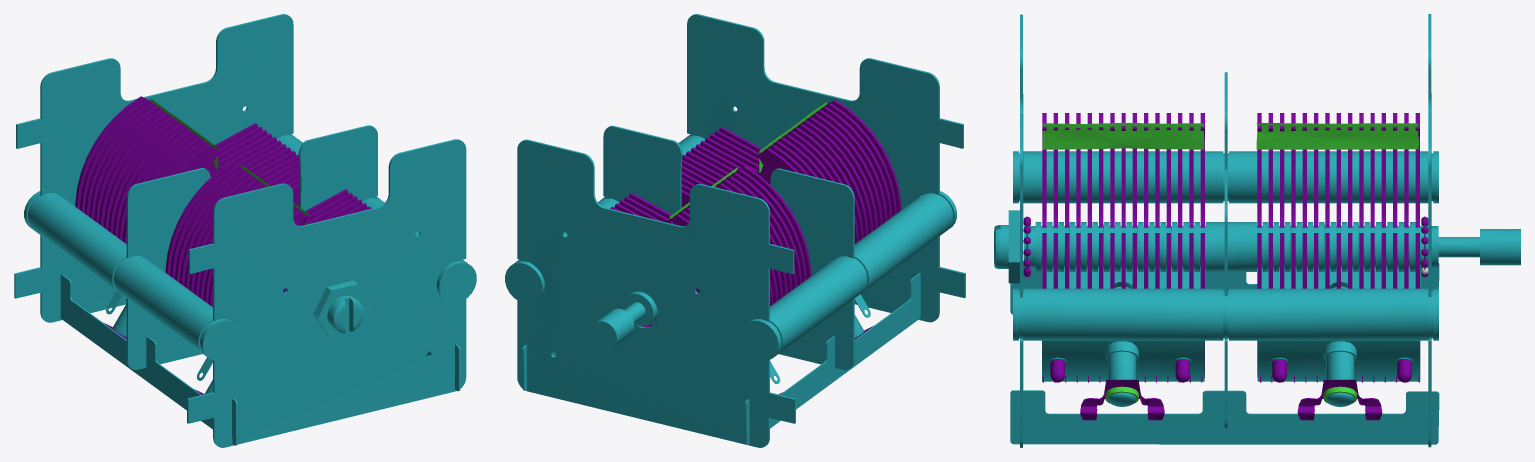
File: basket001.fbx
3 views of the same model, side by side, from view 1: azimuth 30°, elevation 25°; view 2: azimuth 150°, elevation 25°; view 3: azimuth 270°, elevation 25° (orthographic). The views are drawn at different scales.
Parts seen in each view (by area): view 1: basket001_LOD0; view 2: basket001_LOD0; view 3: basket001_LOD0.
Part boxes in pixels (<box>): basket001_LOD0: <box>14,14,476,447</box>; basket001_LOD0: <box>505,14,965,447</box>; basket001_LOD0: <box>994,14,1520,447</box>.
Size of what is drawn, in the model's own units: 4.14 by 3.53 by 5.53.
